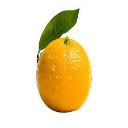orange: (35, 27, 94, 113)
